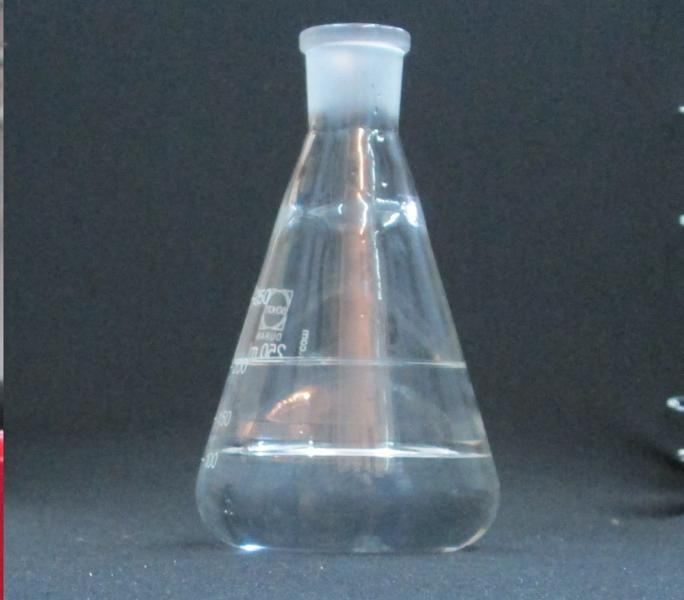Titrarion: (184, 19, 506, 554)
